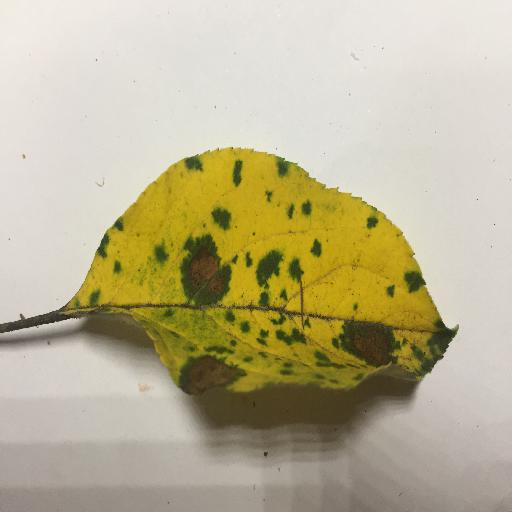Brown_Spot: (339, 316, 395, 366), (184, 245, 232, 303), (174, 355, 243, 390)
